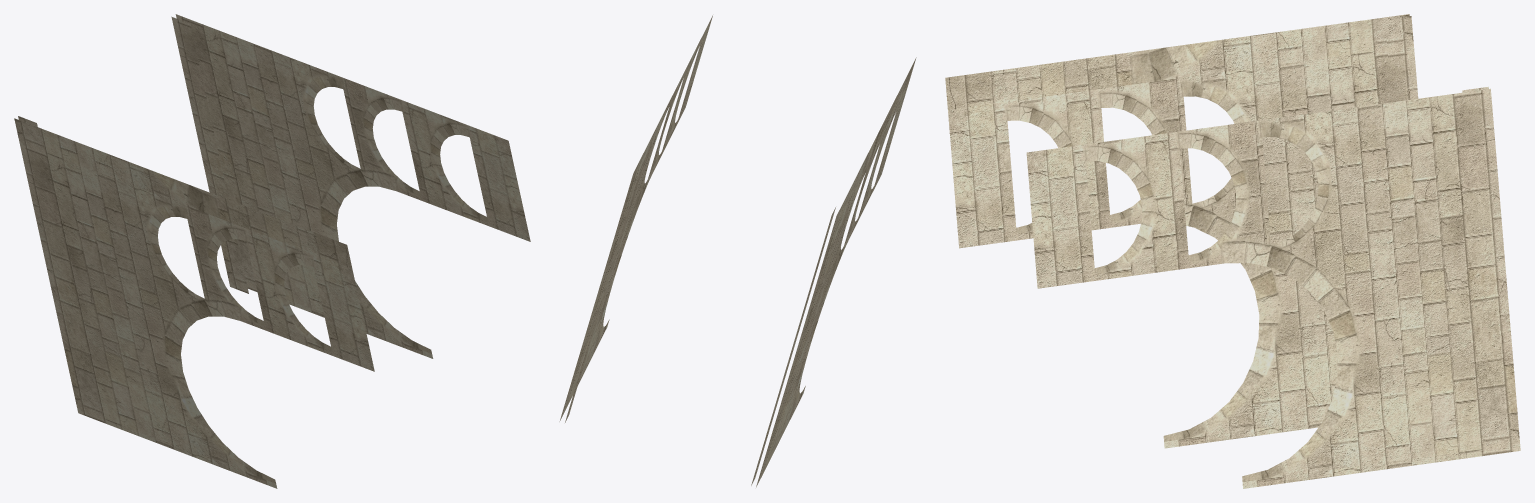
3 views of the same model, side by side, from view 1: azimuth 30°, elevation 25°; view 2: azimuth 150°, elevation 25°; view 3: azimuth 270°, elevation 25° (orthographic). The views are drawn at different scales.
Parts seen in each view (by area): view 1: segment2_; view 2: segment2_; view 3: segment2_.
Boxes of the visible parts, x1,y1,x2,y2 form: segment2_: (14,14,530,488); segment2_: (559,15,916,487); segment2_: (945,14,1520,488).
Bounding box in the file's own units: 497 × 485 × 657.
